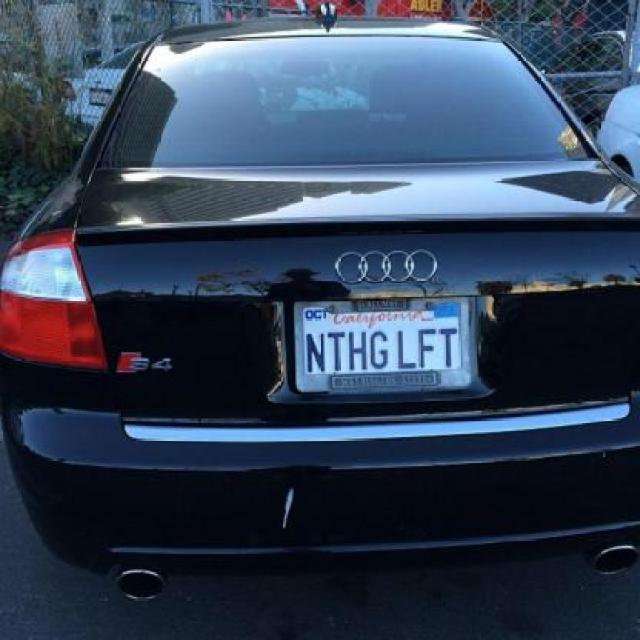License-Plates: (296, 296, 472, 393)
